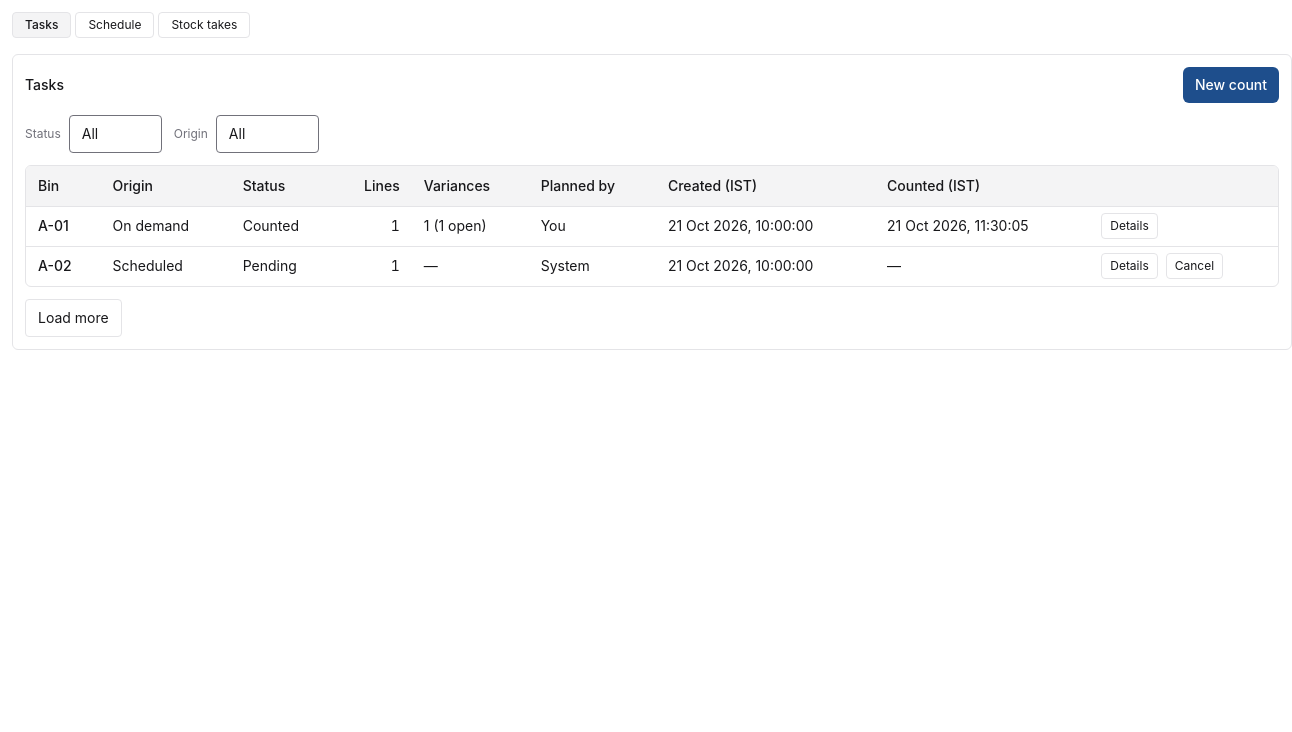
New count › the zone picker never offers a system zone; the POST carries the zone with a per-draft key reused on retry
Click the button "New count".
click(1231, 85)  # box [1183, 67, 1279, 103]
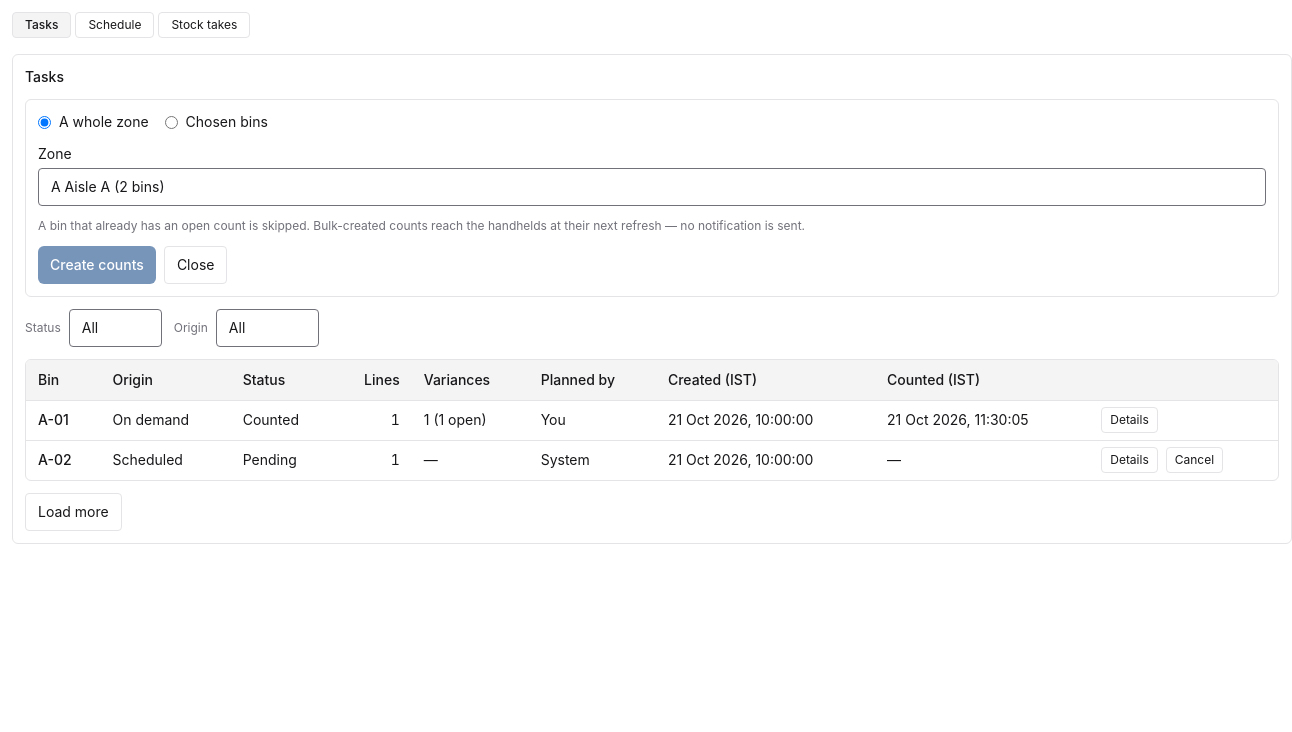
Select "A Aisle A (2 bins)" in the dropdown named "Zone" at coordinates (652, 187), box [38, 168, 1266, 206]
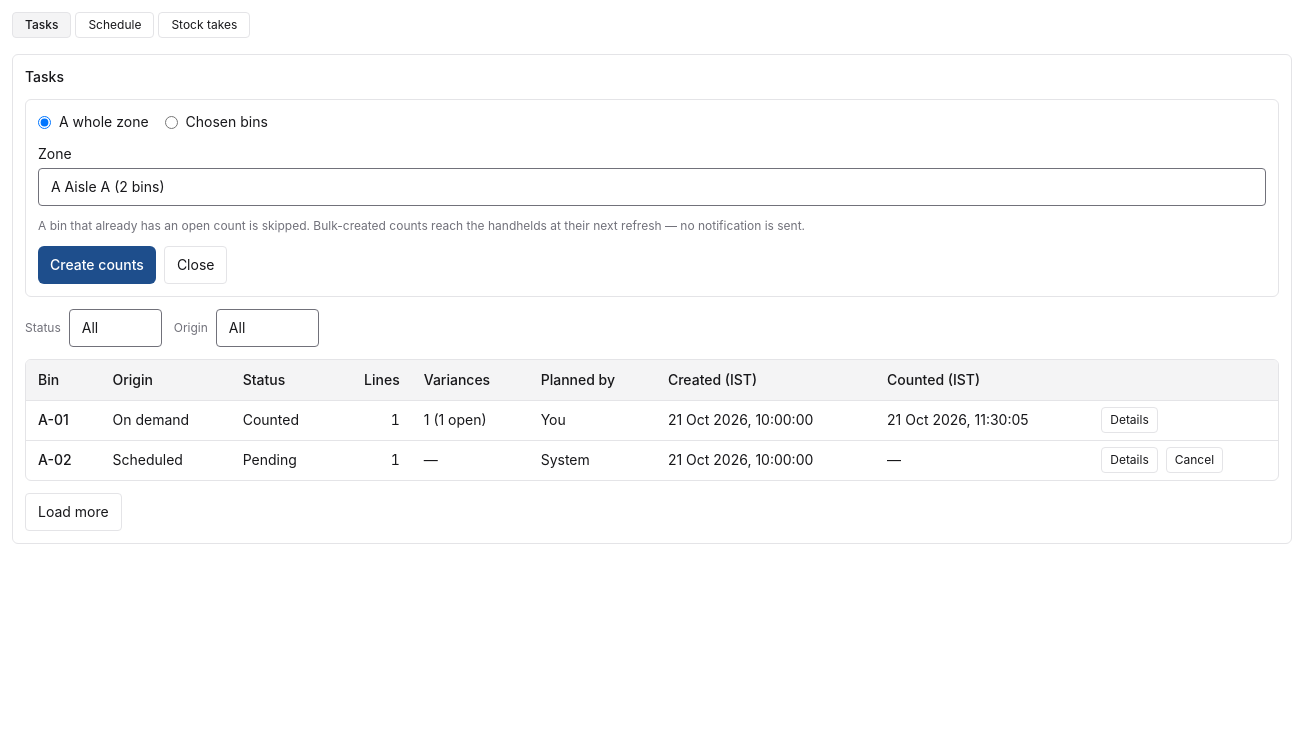
Click the button "Create counts".
click(97, 265)  # box [38, 246, 156, 284]
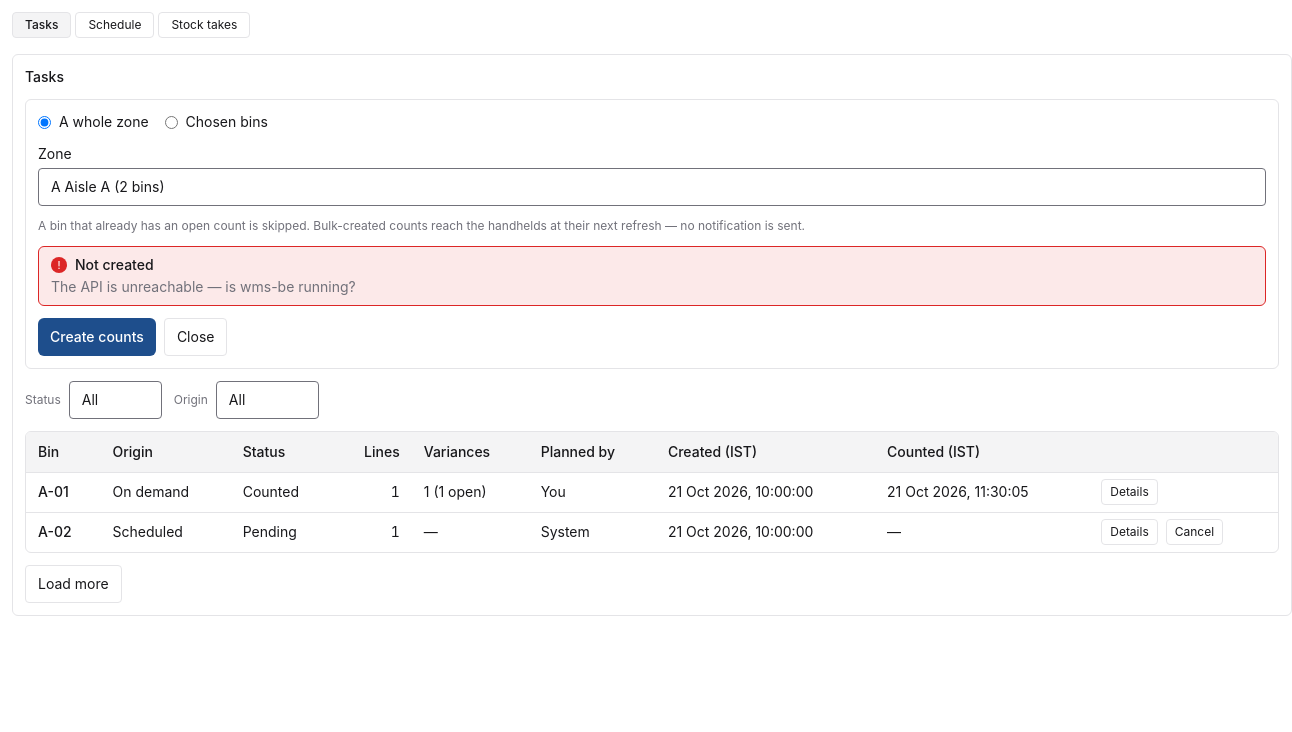
Result: the form named "New count" shows "Not created" at [75, 256, 154, 273]
Click the button "Create counts".
click(97, 337)  # box [38, 318, 156, 356]
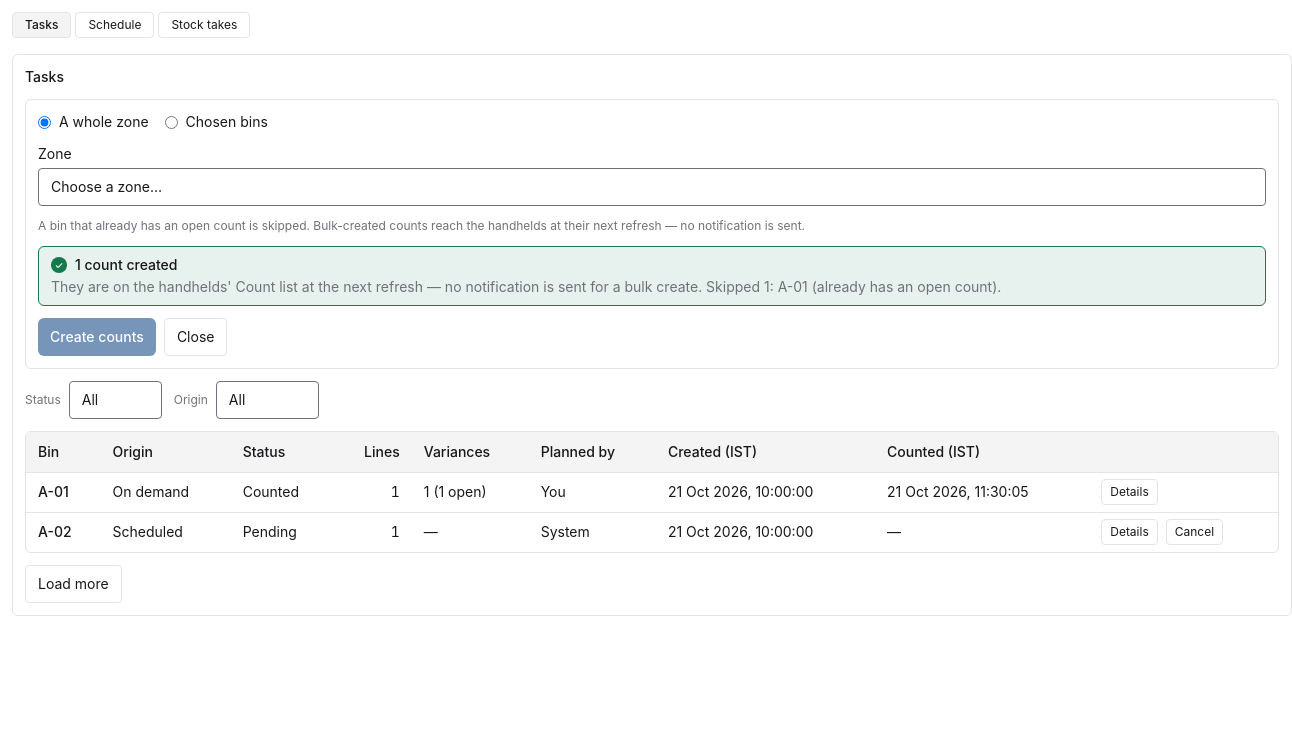
Result: the form named "New count" shows "no notification is sent" at [38, 218, 805, 233]
Result: the form named "New count" shows "1 count created" at [75, 256, 178, 273]
Result: the form named "New count" shows "Skipped 1: A-01 (already has an open count)." at [51, 278, 1001, 295]
